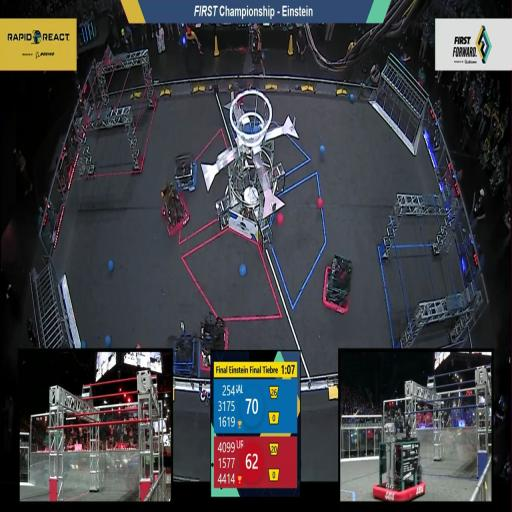robot: (373, 416, 426, 502), (320, 256, 358, 317), (158, 186, 191, 236), (172, 154, 200, 192)
